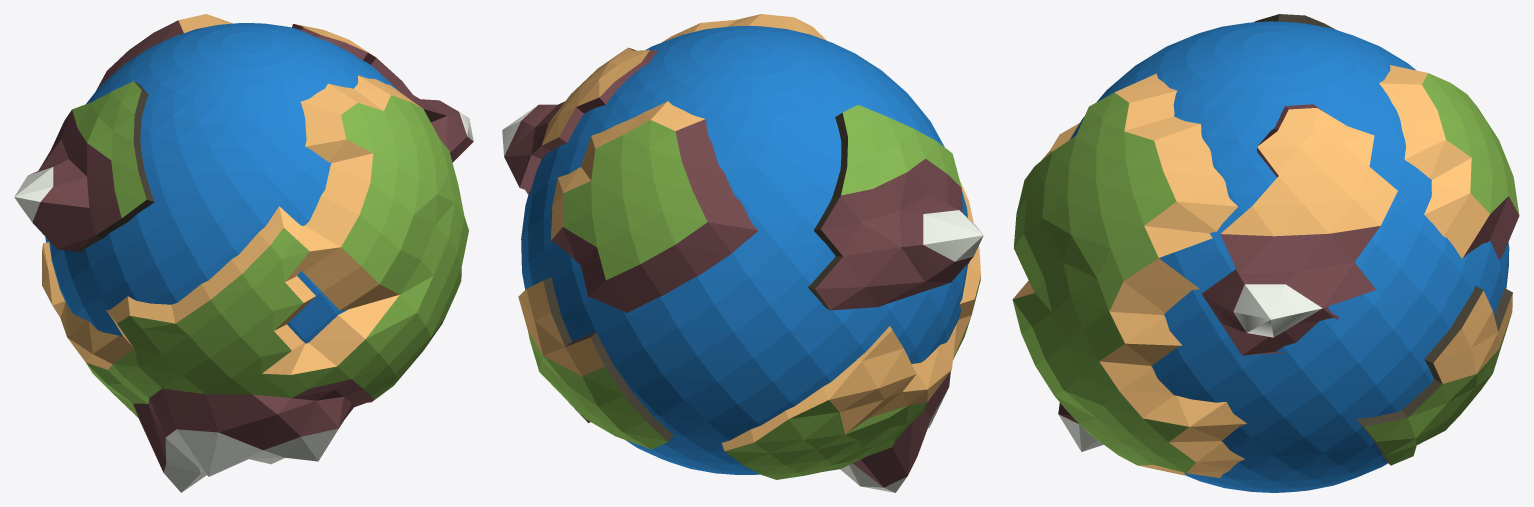
The model's file is Threa_Updated_No_Water.fbx.
3 renders of one model, left to right at view 1: azimuth 30°, elevation 25°; view 2: azimuth 150°, elevation 25°; view 3: azimuth 270°, elevation 25°, orthographic. The views are drawn at different scales.
Parts seen in each view (by area): view 1: pSphere3, pSphere4; view 2: pSphere3, pSphere4; view 3: pSphere3, pSphere4.
Boxes of the visible parts, box(x1,y1,x2,y2) form: pSphere3: box(14, 14, 473, 492); pSphere4: box(45, 23, 397, 343); pSphere3: box(502, 14, 983, 492); pSphere4: box(521, 25, 969, 474); pSphere3: box(1012, 14, 1519, 478); pSphere4: box(1070, 21, 1509, 492).
Bounding box in the file's own units: 2.36 × 2.04 × 2.
1 material, 1 textured.
